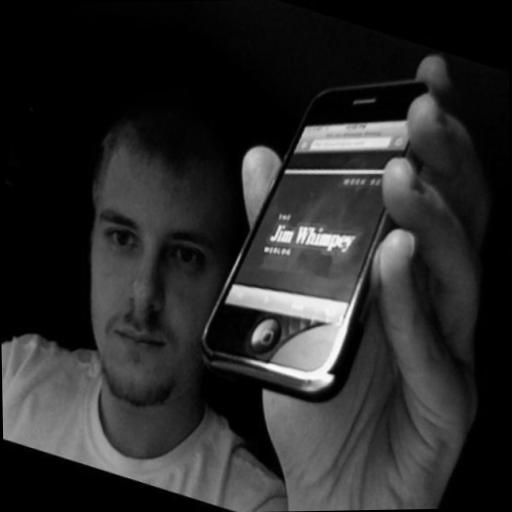phone: (182, 75, 433, 406)
